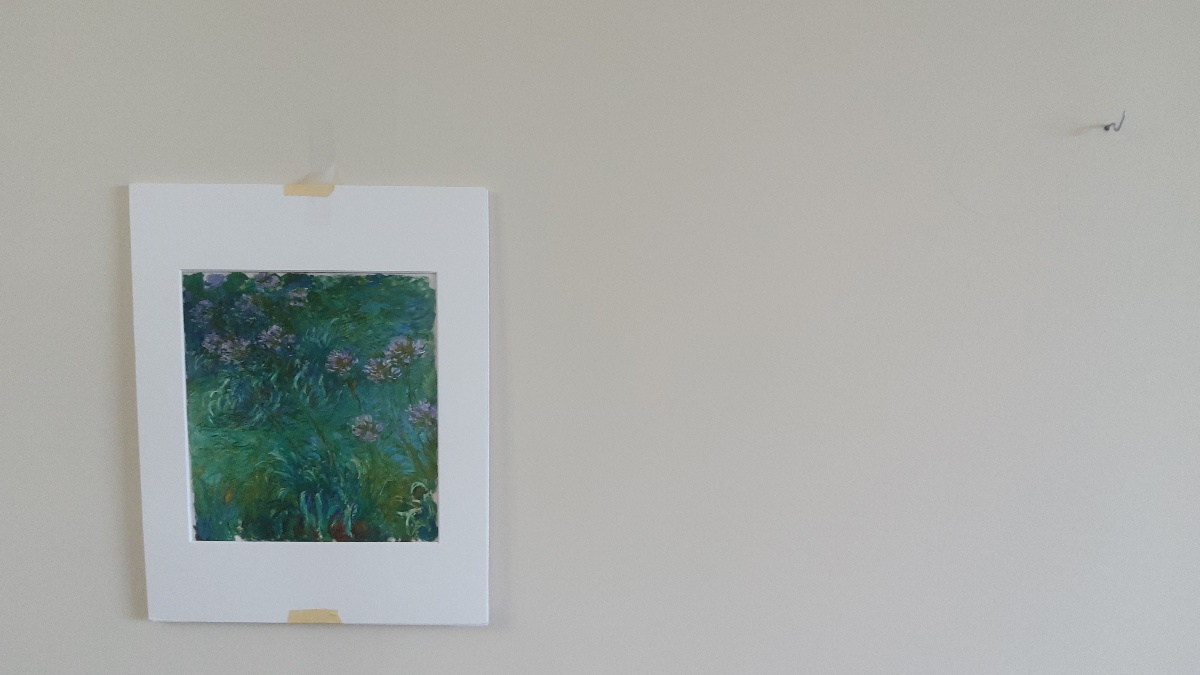painting: (172, 256, 453, 557)
